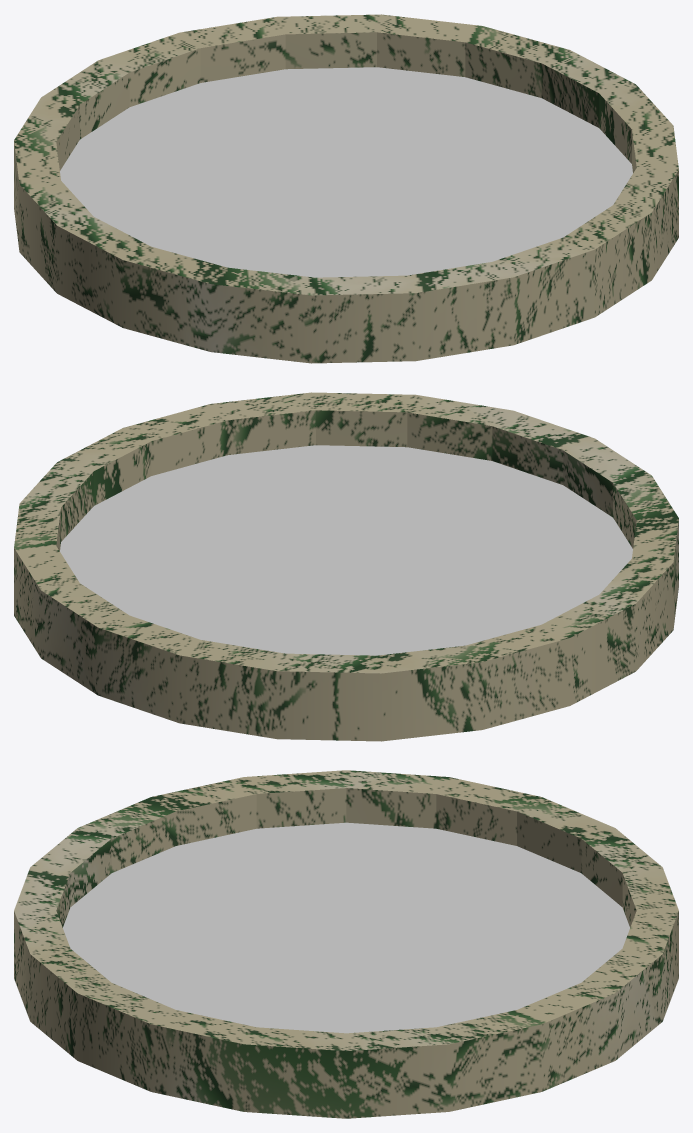
Rendered from m_treeBase.fbx.
The picture shows the model from 3 angles, top to bottom: view 1: azimuth 30°, elevation 25°; view 2: azimuth 150°, elevation 25°; view 3: azimuth 270°, elevation 25°; orthographic projection.
Visible parts, largest first — view 1: pCylinder177; view 2: pCylinder177; view 3: pCylinder177.
Boxes of the visible parts, x1,y1,x2,y2 form: pCylinder177: (14, 14, 678, 363); pCylinder177: (14, 392, 678, 741); pCylinder177: (14, 770, 678, 1118).
Bounding box in the file's own units: 389 × 43.61 × 389.
